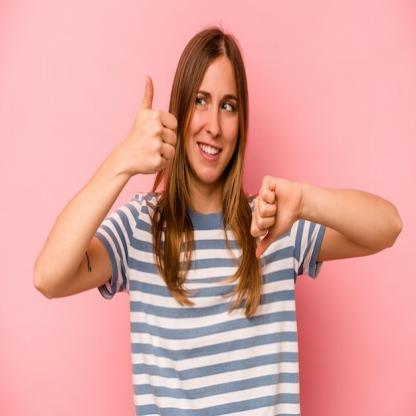thumb_down: (249, 172, 300, 260)
thumb_up: (128, 72, 178, 176)
